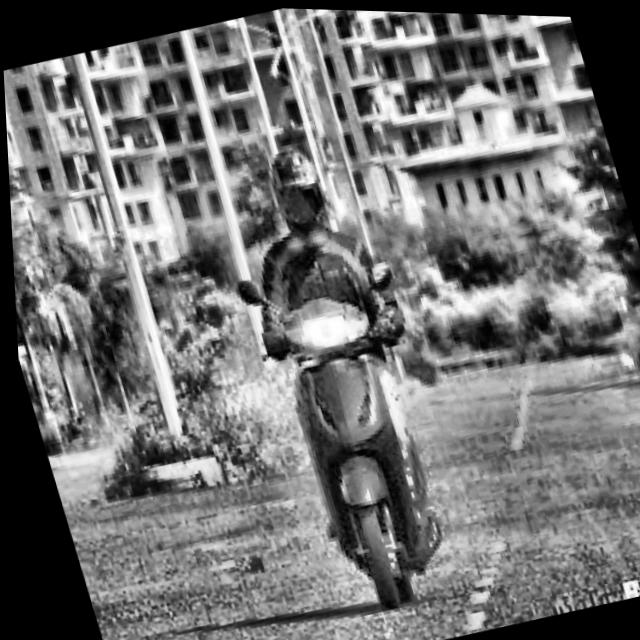motorcycle: (209, 234, 487, 625)
